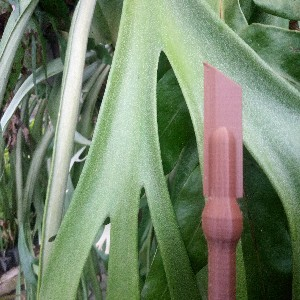cutter: (200, 62, 245, 300)
